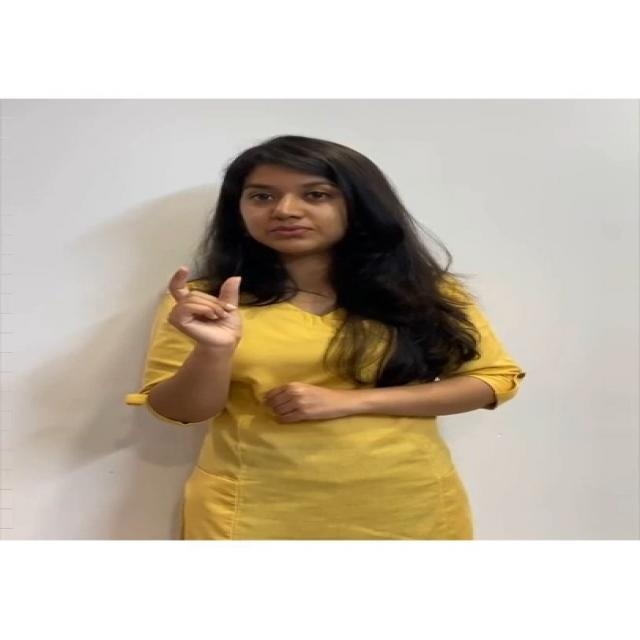U: (145, 260, 264, 358)
